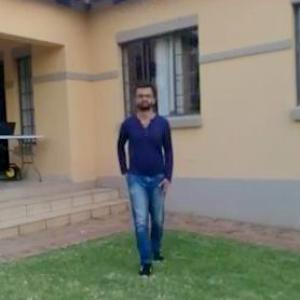follow: (115, 70, 175, 249)
